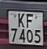0: (26, 29, 34, 44)
4: (19, 28, 27, 44)
5: (34, 29, 42, 45)
7: (11, 28, 19, 44)
F: (25, 12, 35, 30)
K: (18, 13, 25, 30)
